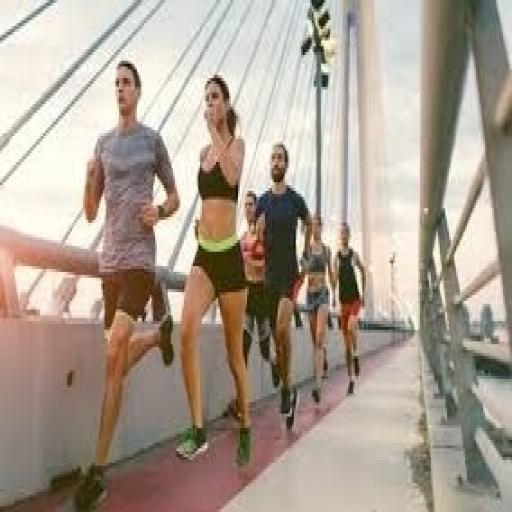running: (74, 58, 182, 506), (173, 70, 256, 468), (252, 139, 316, 434), (330, 217, 369, 399)
